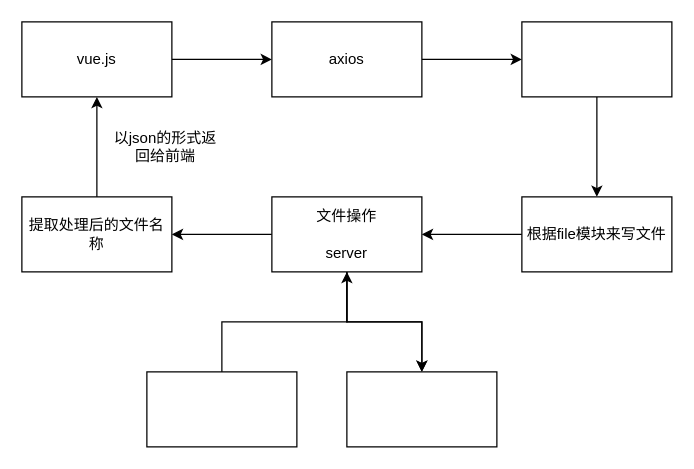
The diagram is 694 pixels wide and 469 high, and some of its shapes have lost their labels. The shapes that lost their labels are listed below. From the top down, each one's box as (x1, y1, x2, y2) in pixels, then its label:
(521, 21, 672, 97): django接口
(146, 371, 297, 447): 压缩图片
(346, 371, 497, 447): 同步到七牛云，同步到又拍云 云存储
